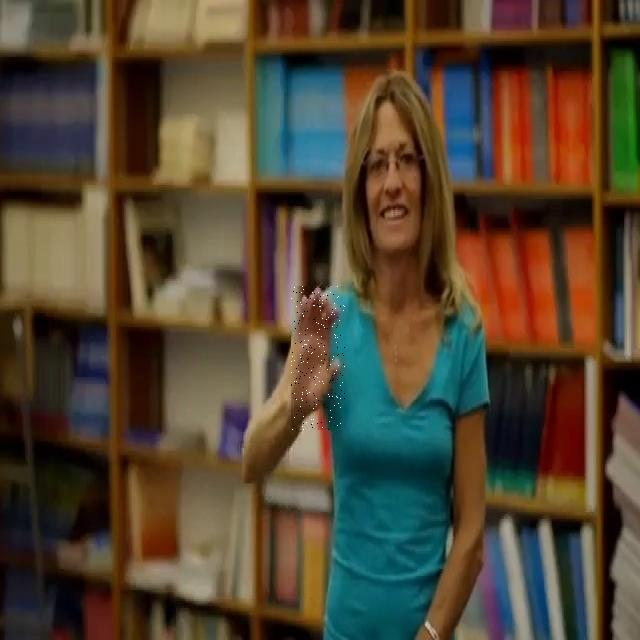pepper: (292, 286, 346, 430)
